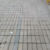others: (1, 2, 50, 50)
